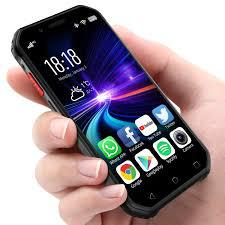Hand: (0, 35, 225, 225)
Smartphone: (19, 5, 208, 220)
